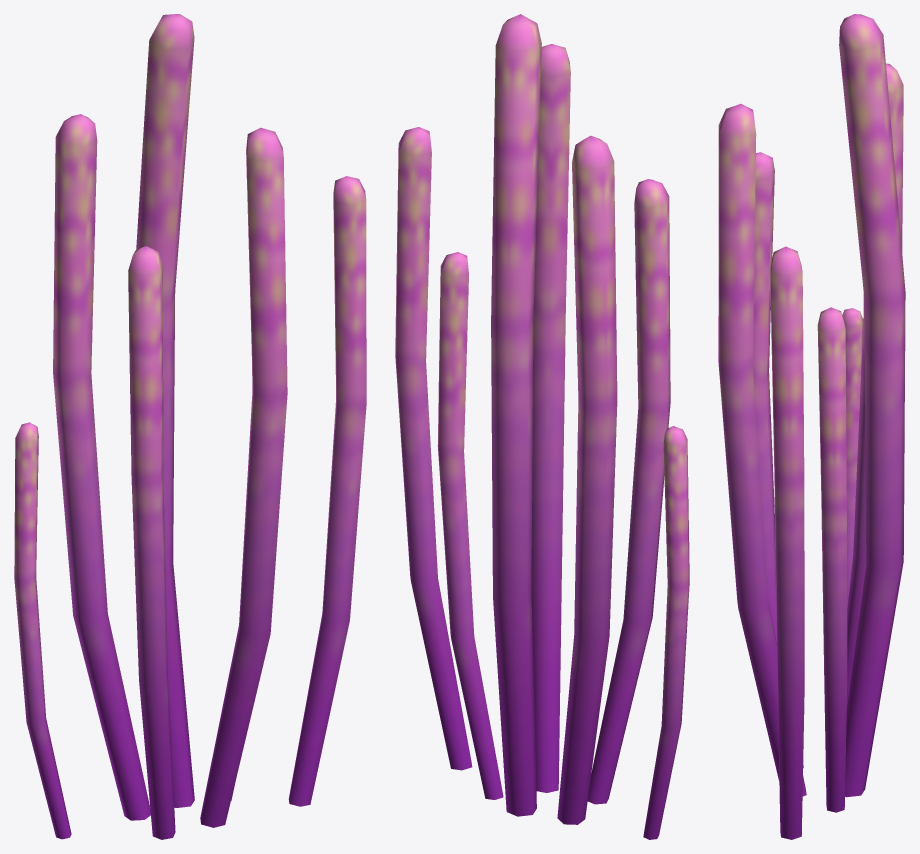
3 renders of one model, left to right at view 1: azimuth 30°, elevation 25°; view 2: azimuth 150°, elevation 25°; view 3: azimuth 270°, elevation 25°, orthographic. The views are drawn at different scales.
Visible parts, largest first — view 1: wk_s02_51; view 2: wk_s02_51; view 3: wk_s02_51.
Part boxes in pixels (box(x1,y1,x2,y2)): wk_s02_51: box(14, 14, 366, 839); wk_s02_51: box(395, 14, 689, 839); wk_s02_51: box(718, 14, 905, 839).
Size of the model in its own units: 3.93 by 2.02 by 9.26.
1 material, 1 textured.
